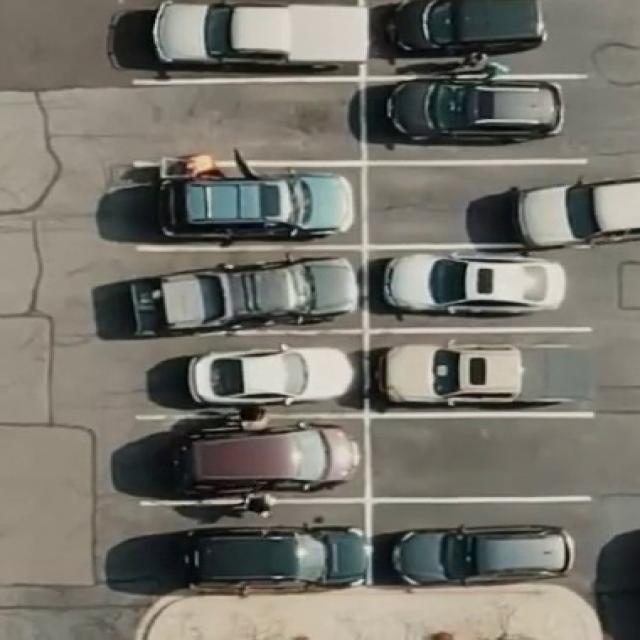empty: (134, 90, 352, 153), (378, 425, 580, 491)
notEmpty: (143, 510, 358, 587), (145, 422, 361, 496), (145, 338, 357, 411), (376, 339, 597, 409), (140, 4, 355, 74), (381, 509, 588, 581), (142, 254, 358, 323), (372, 84, 588, 153), (149, 169, 357, 240), (377, 253, 583, 324), (376, 2, 588, 69), (376, 171, 586, 235)
